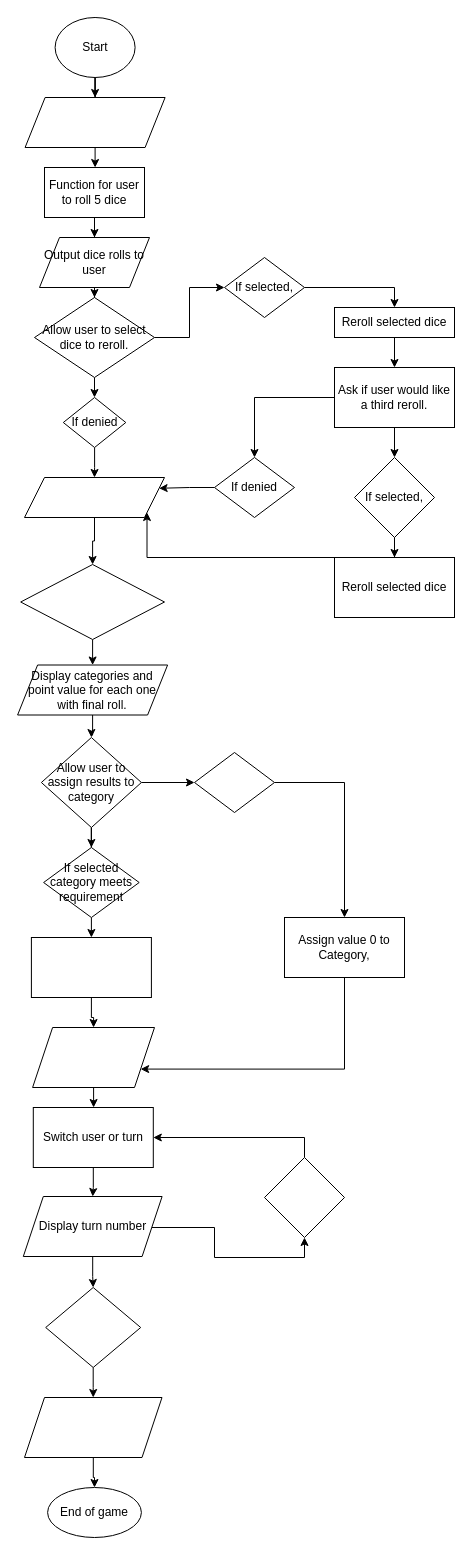
Image size: 472x1555. Some labels were removed from this diagram. The shapes that lost their labels are listed below. From the top down, each one's centre as x and y in pixels, then its label:
At point 94,122: "Output instructions to user".
At point 94,497: "Display value of each final dice roll".
At point 92,602: "Check what categories value fulfills".
At point 234,782: "If requirements not met".
At point 90,967: "Assign Value of dice roll in selected category.".
At point 93,1057: "Present Updated score card to user".
At point 304,1197: "If turn (!) does not equal 13".
At point 93,1327: "If turn 13 is over".
At point 93,1427: "Display Results and winner".
